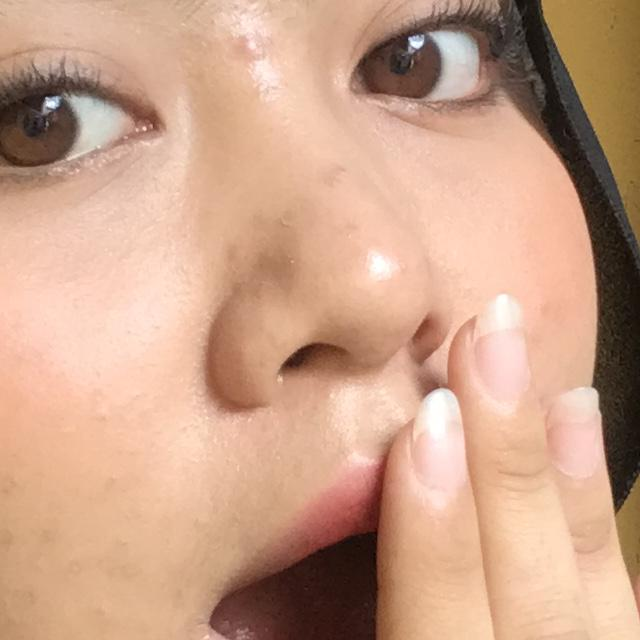ngantuk: (130, 256, 640, 640)
